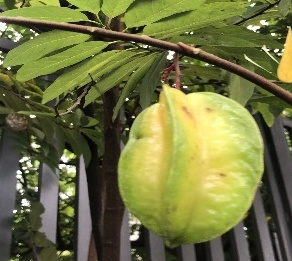Khe: (116, 84, 265, 244)
